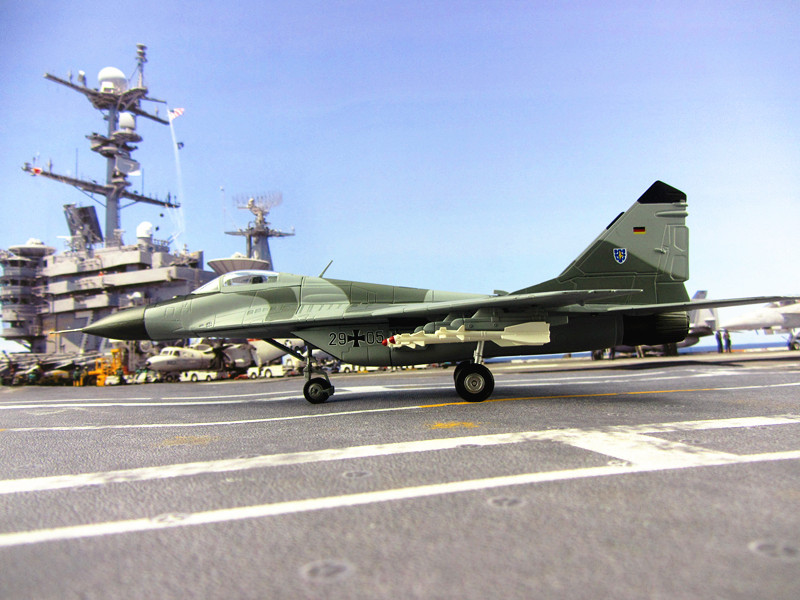Mig-29: (78, 183, 747, 429)
